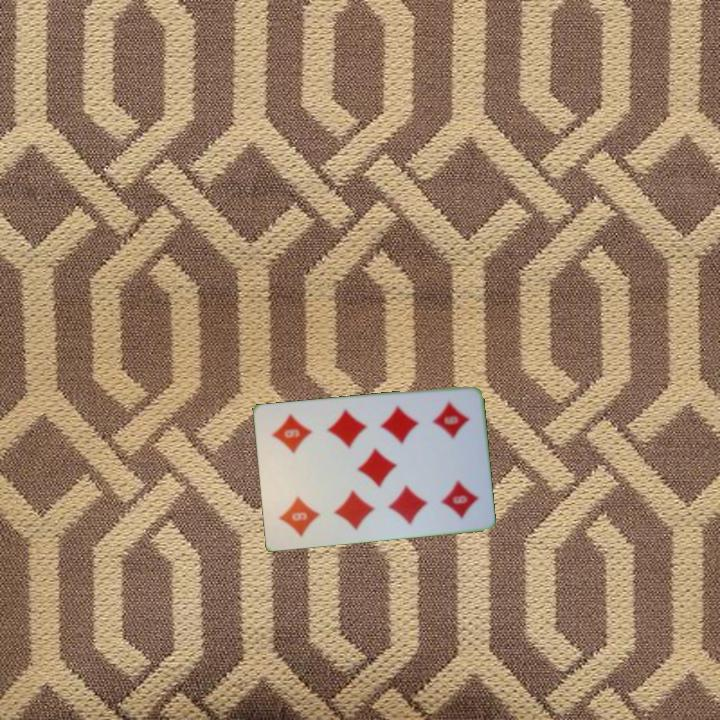d_9.png: (269, 469, 332, 541), (416, 394, 479, 465)
